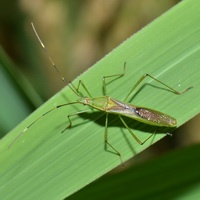insect: (0, 86, 120, 199), (73, 20, 199, 126), (108, 113, 174, 160)
